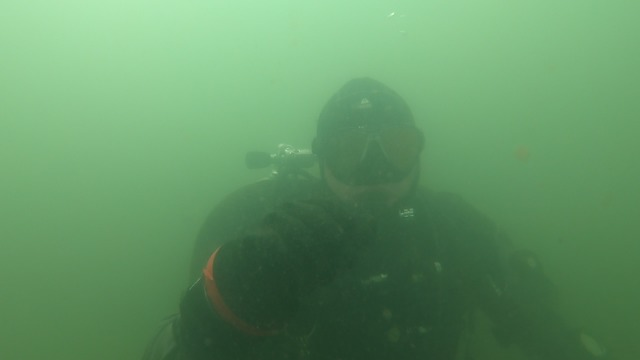Diver: (162, 59, 603, 359)
Hand: (198, 194, 362, 319)
Head: (310, 76, 450, 239)
